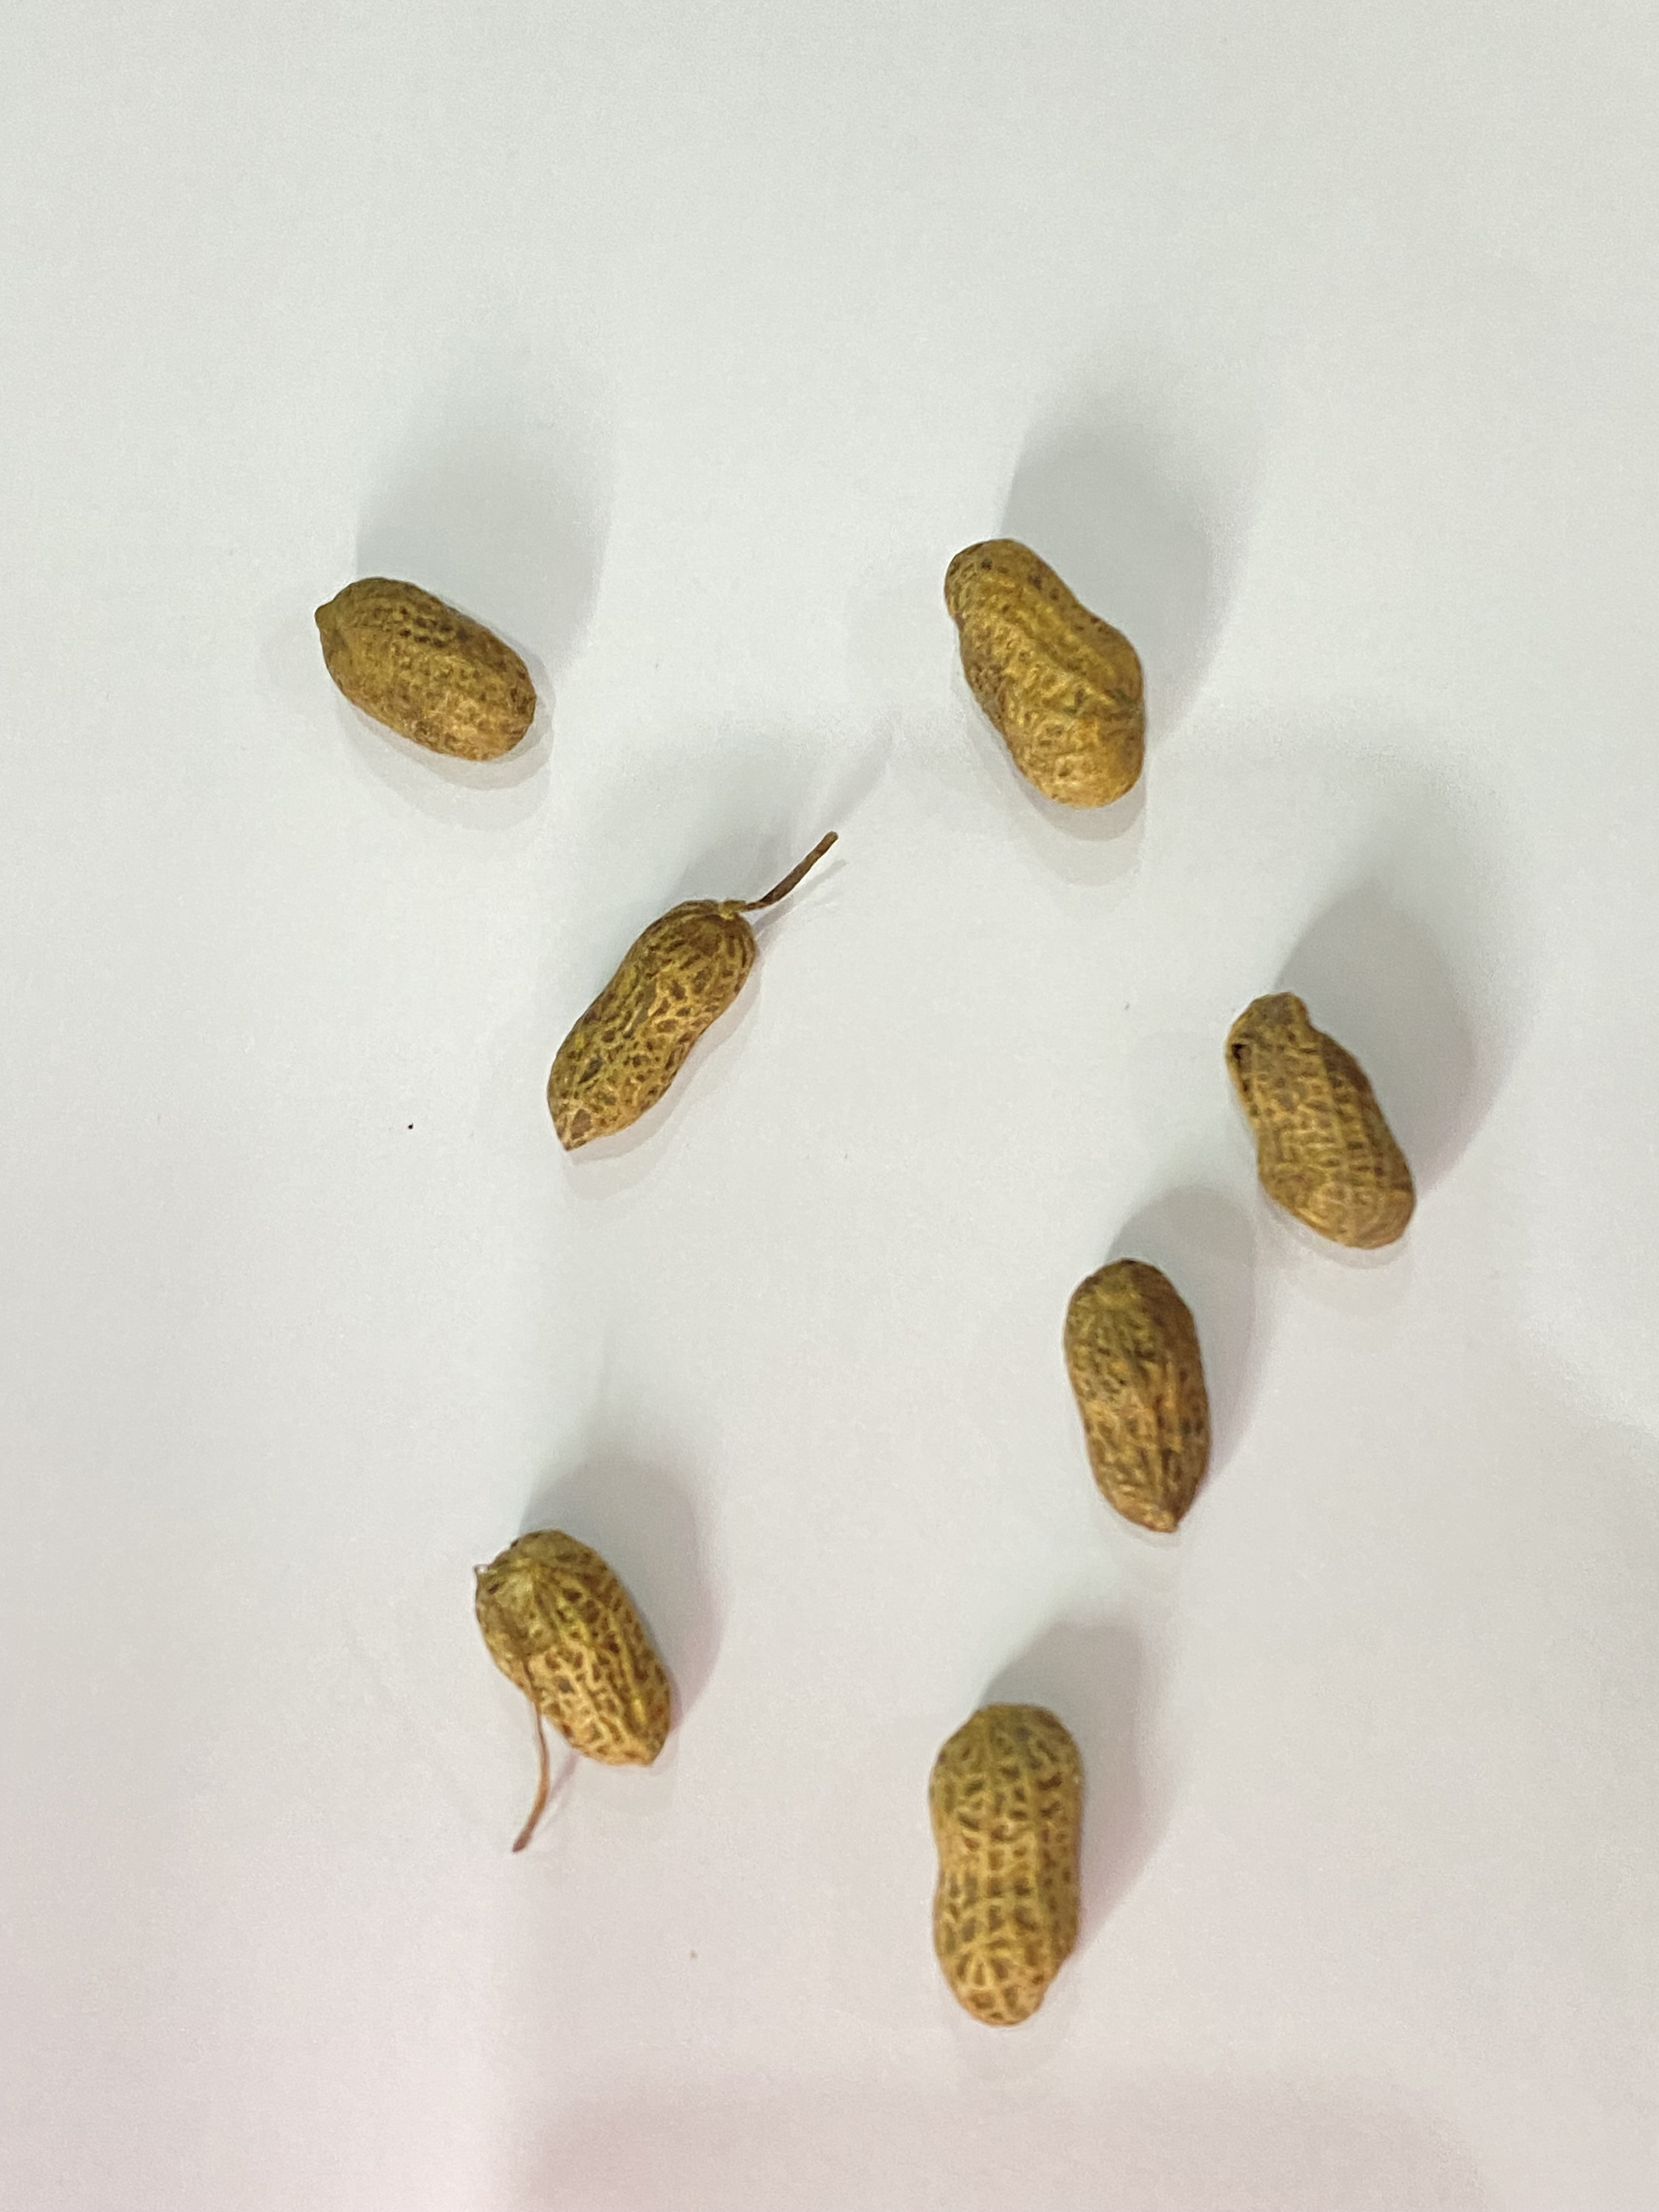kacang1: (474, 1531, 683, 1775), (307, 571, 537, 756)
kacang2: (920, 1702, 1098, 2022), (547, 897, 756, 1160), (948, 540, 1150, 808), (1222, 993, 1424, 1251), (1061, 1258, 1225, 1531)
